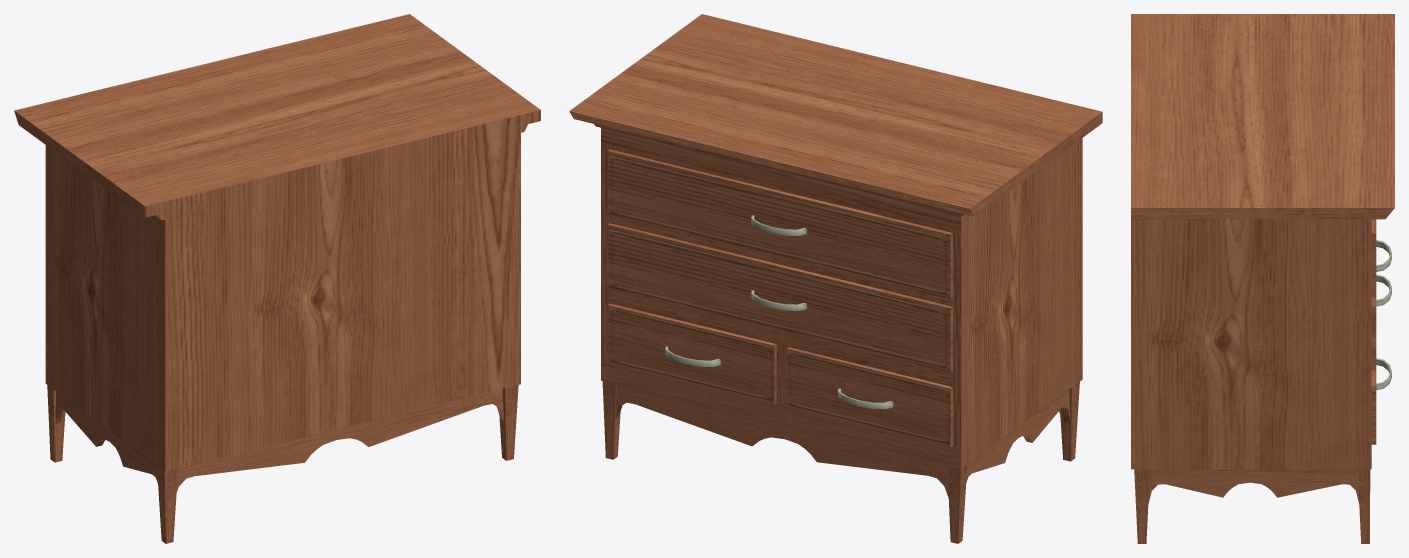
Rendered from dresser03.obj.
3 views of the same model, side by side, from view 1: azimuth 30°, elevation 25°; view 2: azimuth 150°, elevation 25°; view 3: azimuth 270°, elevation 25° (orthographic).
Visible parts, largest first — view 1: mesh02; view 2: mesh02, mesh03, mesh04, mesh01, mesh05; view 3: mesh02, mesh01, mesh04, mesh03.
Boxes of the visible parts, x1,y1,x2,y2 form: mesh02: (14,14,540,543); mesh02: (569,14,1102,543); mesh03: (607,149,952,299); mesh04: (607,223,952,372); mesh01: (607,303,776,404); mesh05: (786,347,952,447); mesh02: (1131,14,1394,543); mesh01: (1371,358,1391,444); mesh04: (1371,240,1391,370); mesh03: (1371,219,1376,297).
Bounding box in the file's own units: 49.93 × 41.68 × 28.67.
Materials: 1 (1 with a texture image).
